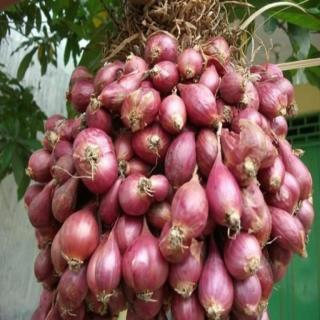Bawang Merah: (24, 30, 315, 320)
